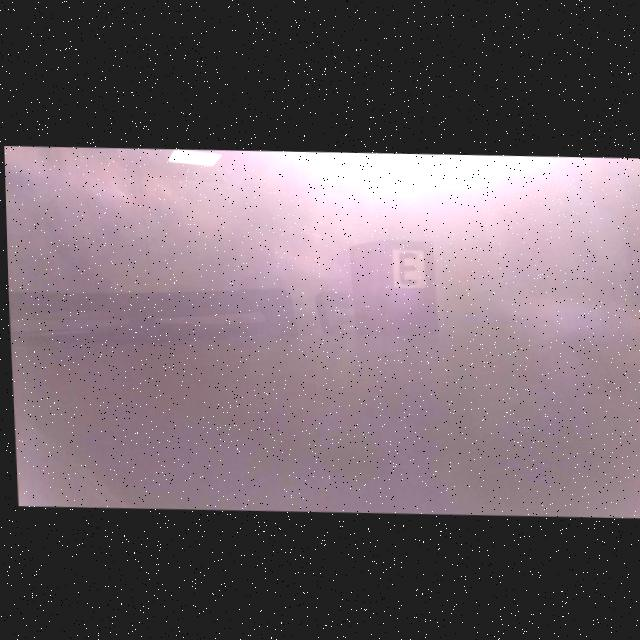E: (397, 250, 415, 280)
